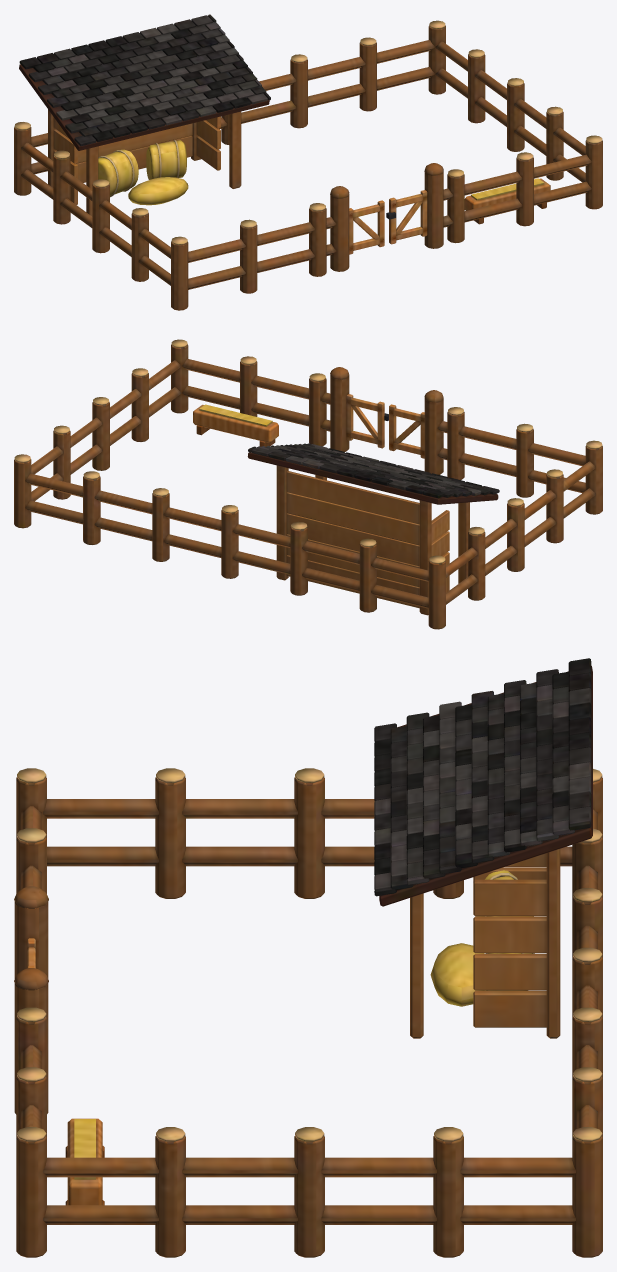
Rendered from karakul_fold.glb.
3 views of the same model, one above another, from view 1: azimuth 30°, elevation 25°; view 2: azimuth 150°, elevation 25°; view 3: azimuth 270°, elevation 25° (orthographic). The views are drawn at different scales.
Visible parts, largest first — view 1: karakul_fold, gate1, gate0; view 2: karakul_fold, gate1, gate0; view 3: karakul_fold.
Part boxes in pixels (x1=…): karakul_fold: x1=14, y1=14, x2=602, y2=310; gate1: x1=386, y1=190, x2=427, y2=244; gate0: x1=349, y1=200, x2=384, y2=254; karakul_fold: x1=14, y1=339, x2=602, y2=629; gate1: x1=346, y1=394, x2=388, y2=448; gate0: x1=389, y1=404, x2=424, y2=458; karakul_fold: x1=14, y1=658, x2=602, y2=1257.
Size of the model in its own units: 3 by 0.9342 by 2.01.
Materials: 1 (1 with a texture image).
